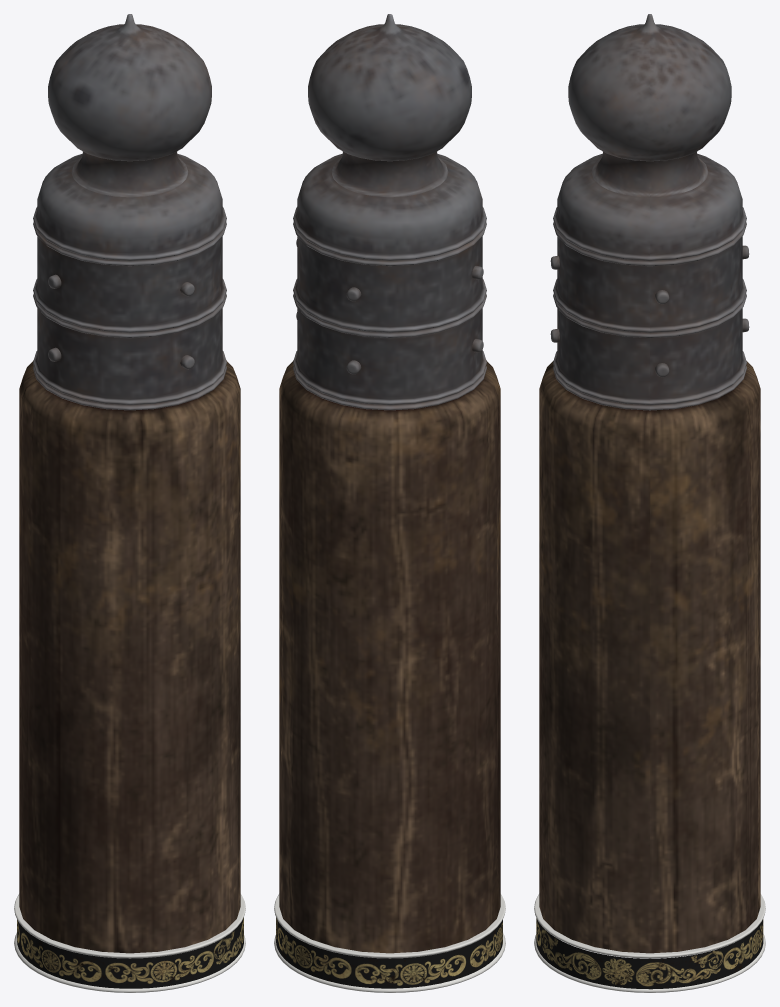
File: SM_Pillar.fbx
The picture shows the model from 3 angles, left to right: view 1: azimuth 30°, elevation 25°; view 2: azimuth 150°, elevation 25°; view 3: azimuth 270°, elevation 25°; orthographic projection.
Visible parts, largest first — view 1: SM_Pillar_LOD0; view 2: SM_Pillar_LOD0; view 3: SM_Pillar_LOD0.
Boxes of the visible parts, x1,y1,x2,y2 form: SM_Pillar_LOD0: [14, 14, 245, 992]; SM_Pillar_LOD0: [274, 14, 505, 992]; SM_Pillar_LOD0: [534, 14, 765, 992].
Size of the model in its own units: 44.08 by 44.08 by 195.
